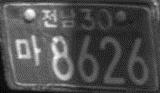0: (96, 7, 112, 31)
2: (98, 34, 127, 86)
3: (78, 7, 95, 30)
6: (126, 36, 148, 87), (76, 35, 99, 82)
8: (50, 35, 74, 80)
마: (14, 34, 42, 67)
전남_O: (41, 8, 76, 29)
